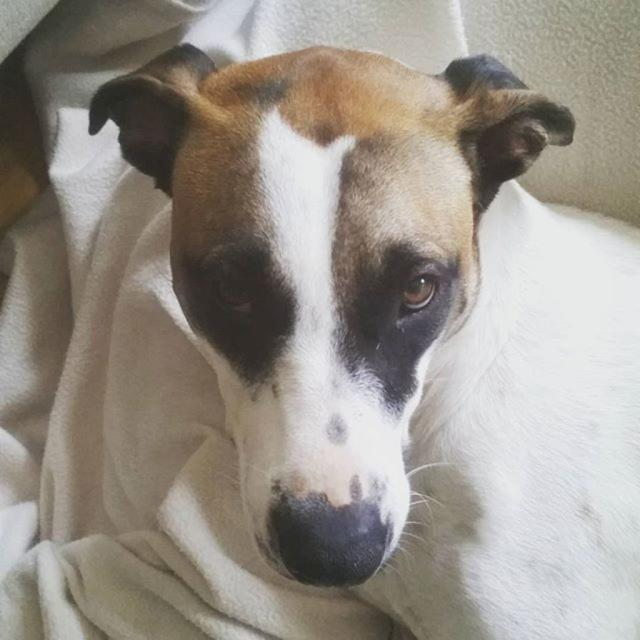Dog: (81, 38, 638, 638)
